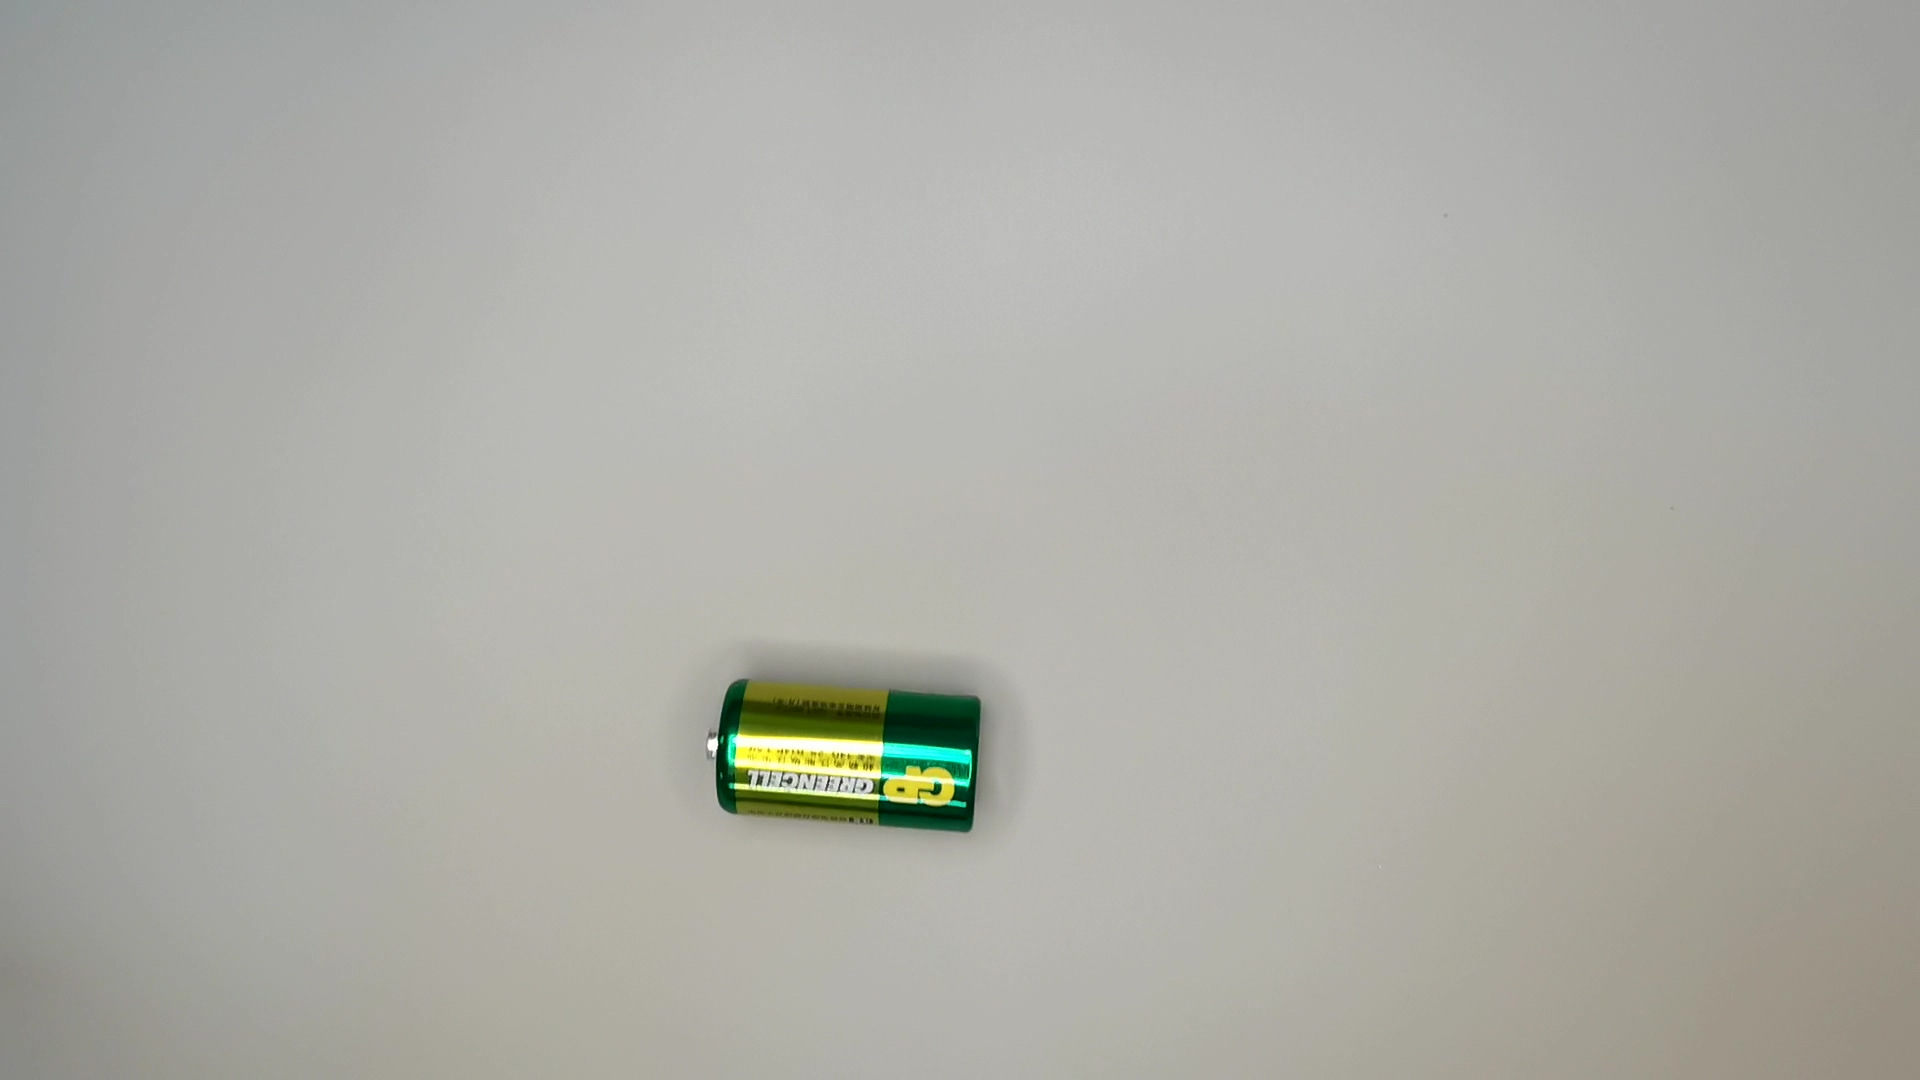battery: (698, 674, 989, 841)
